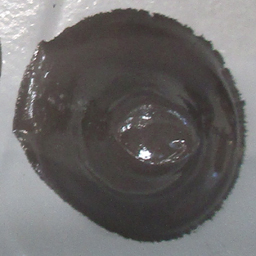perfect: (11, 9, 250, 242)
